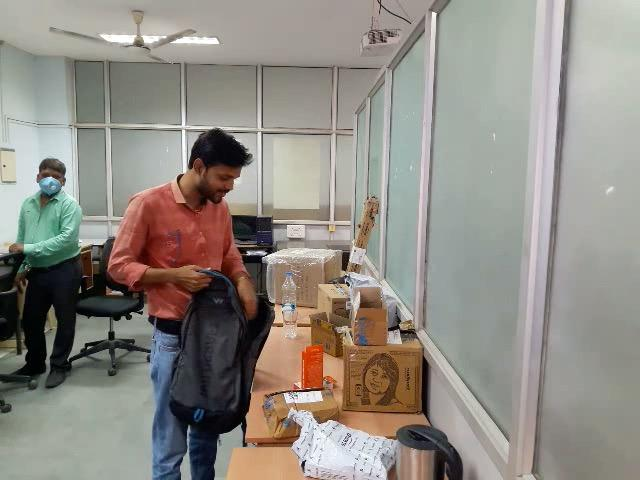shoplifting: (106, 218, 287, 480)
